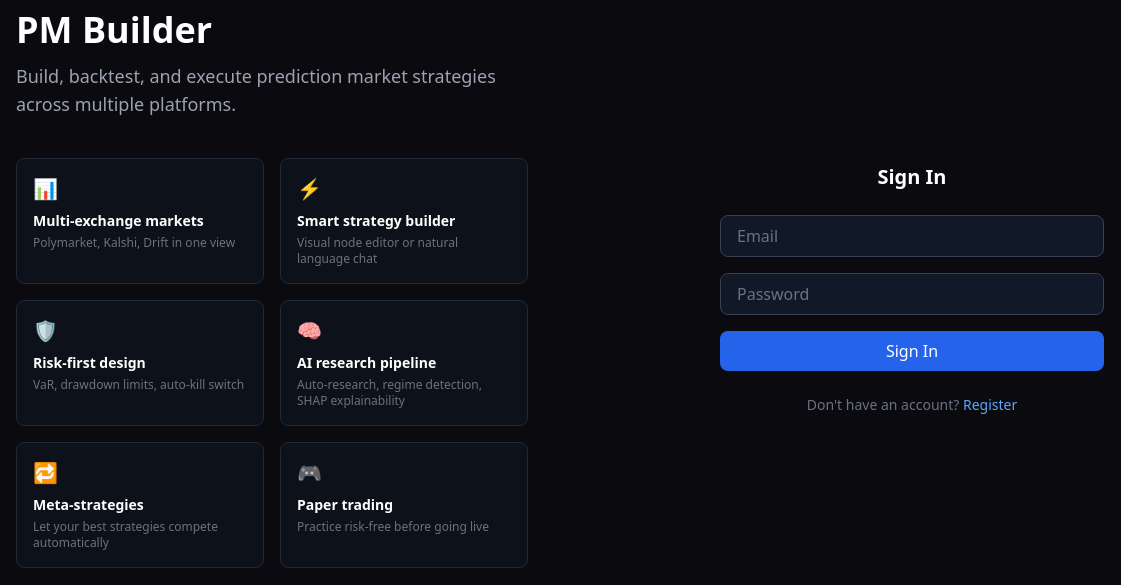
Scenario: LoginPage › shows error message on failed login
In the field with placeholder "Email": [912, 236] box [720,215,1104,257], type "a@b.com"
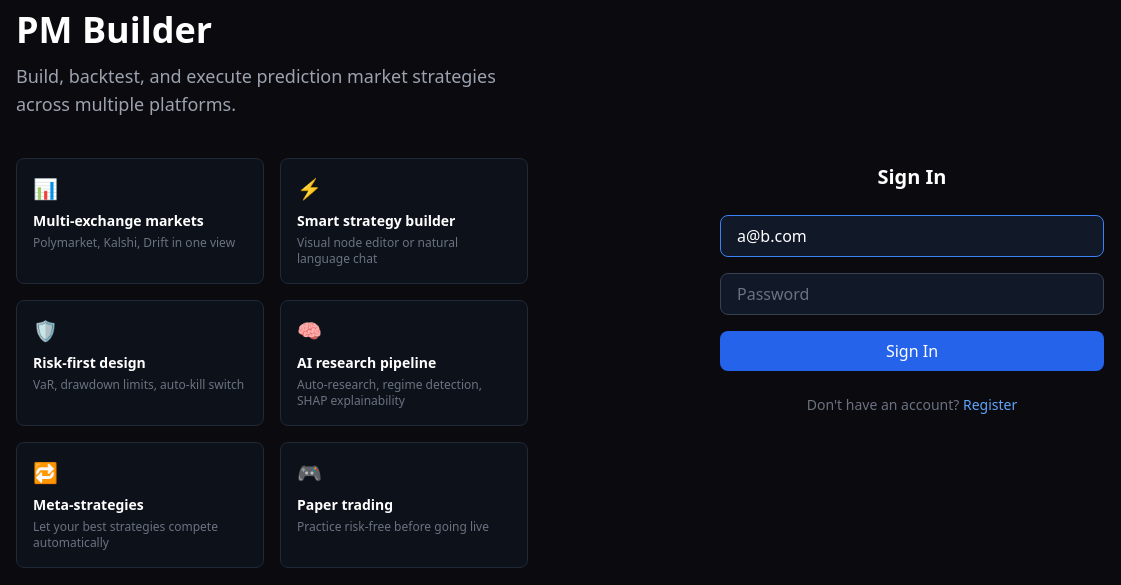
In the password field with placeholder "Password": [912, 294] box [720,273,1104,315], type "wrong"
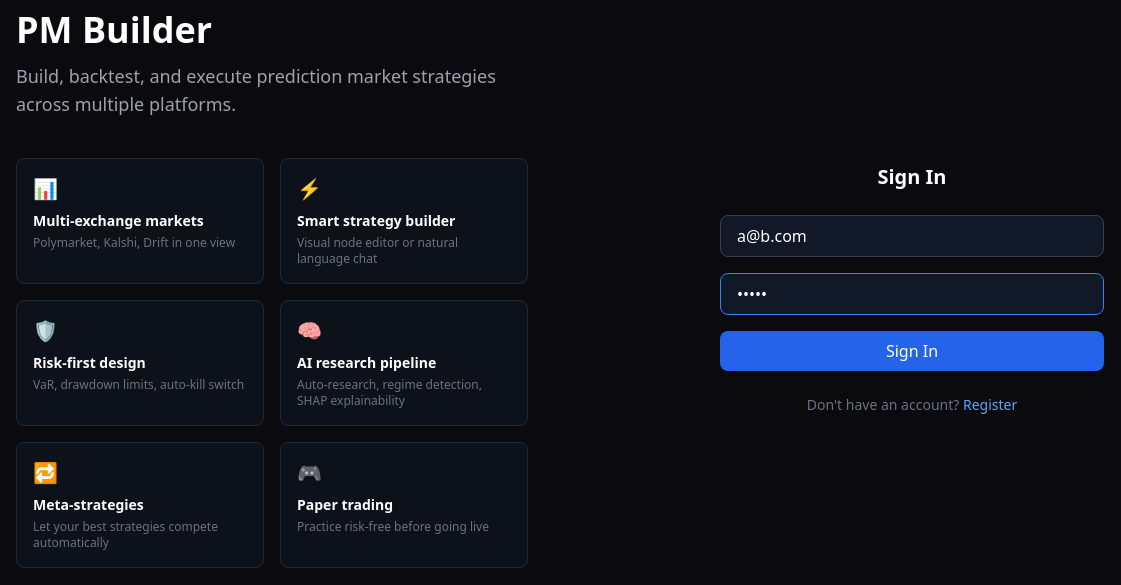
Click the button "Sign In": [912, 351] box [720,331,1104,371]
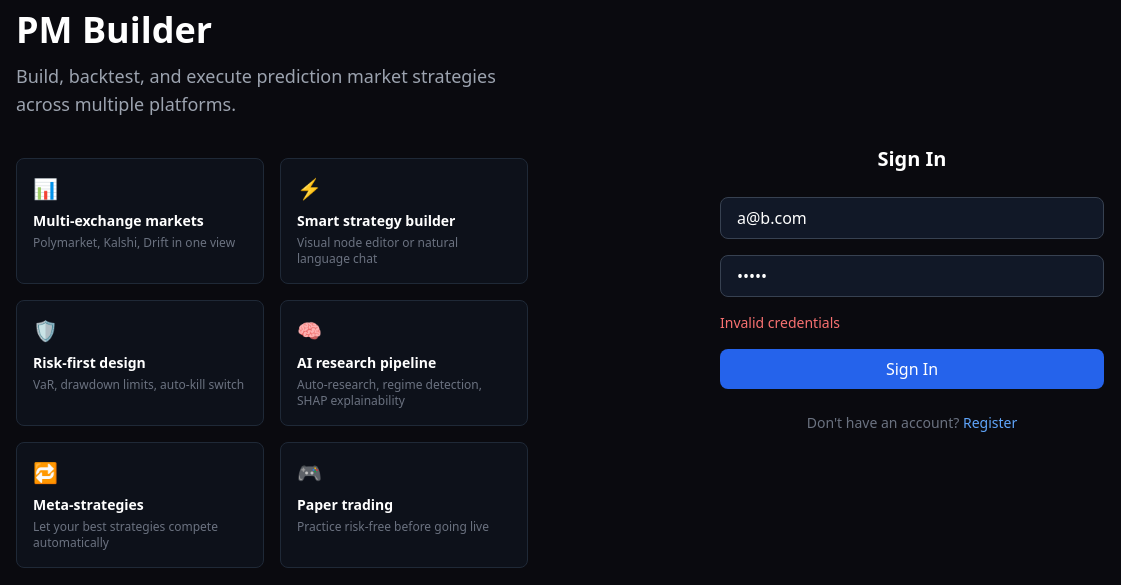
Result: the text "Invalid credentials" is shown at [720,313,840,332]
